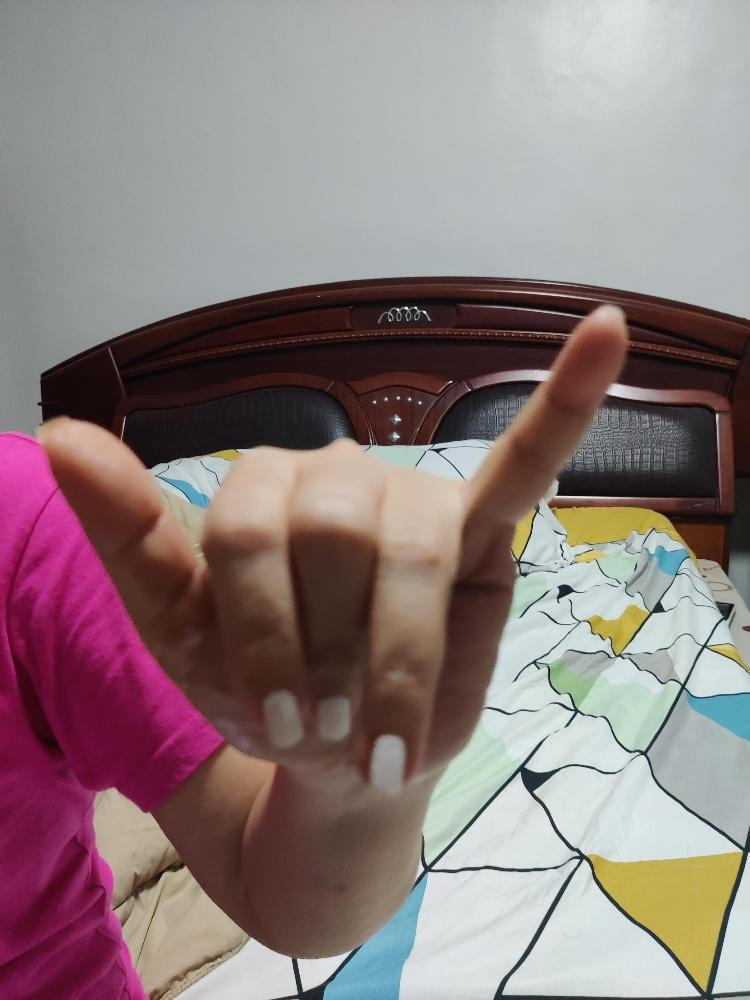y: (34, 300, 630, 798)
